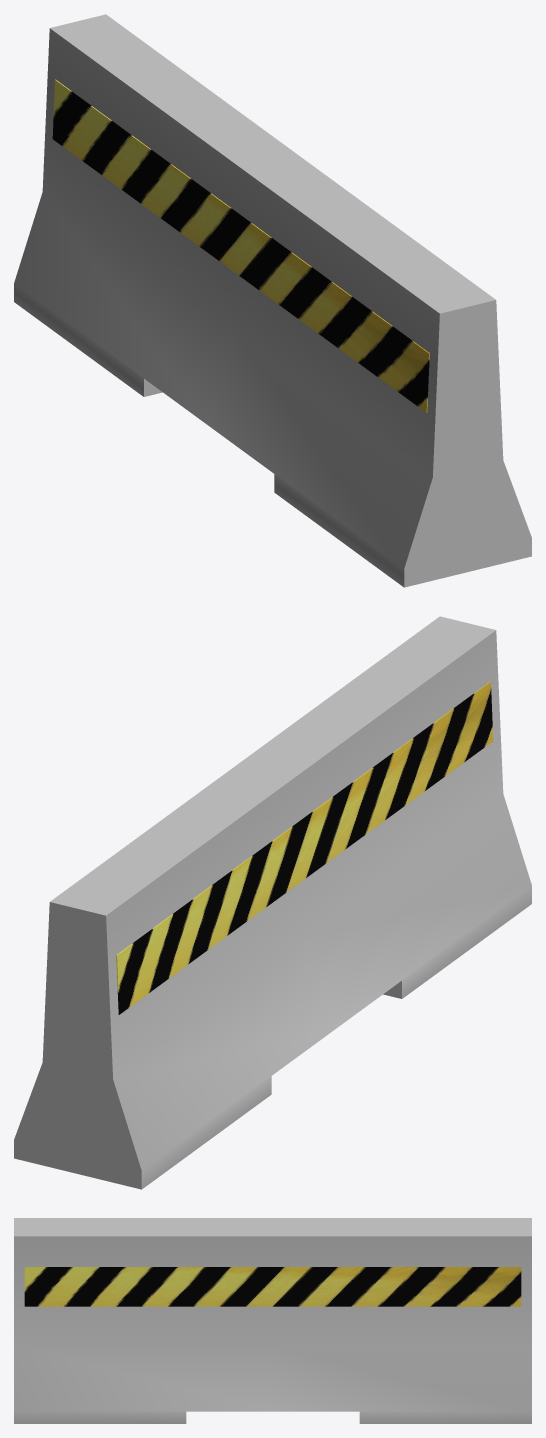
File: Barricade.fbx
3 renders of one model, top to bottom at view 1: azimuth 30°, elevation 25°; view 2: azimuth 150°, elevation 25°; view 3: azimuth 270°, elevation 25°, orthographic. The views are drawn at different scales.
Visible parts, largest first — view 1: Barricade; view 2: Barricade; view 3: Barricade.
Boxes of the visible parts, x1,y1,x2,y2 form: Barricade: (14,14,531,587); Barricade: (14,616,531,1189); Barricade: (14,1218,531,1423).
Size of the model in its own units: 45.38 by 90 by 240.
